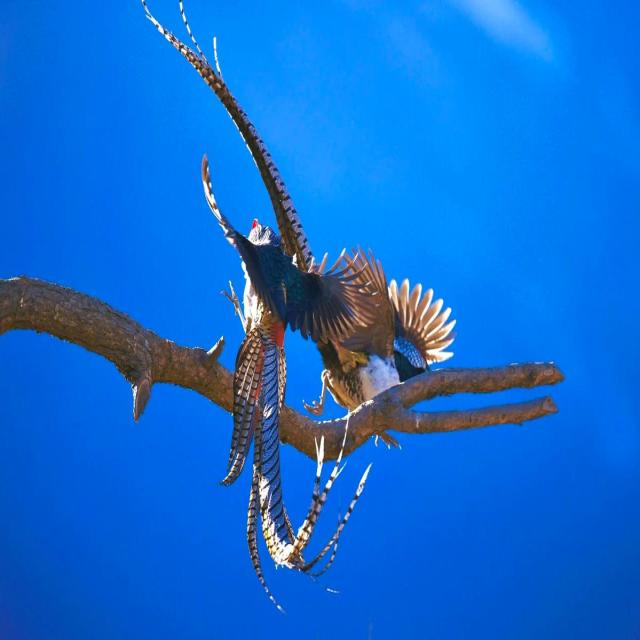Chrysolophus amherstiae: (143, 0, 313, 268), (221, 330, 295, 594)
